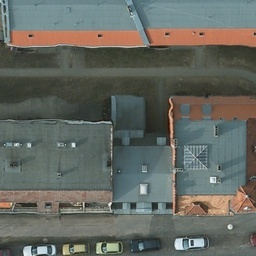car: (175, 235, 209, 253), (129, 236, 163, 253), (94, 239, 123, 254), (20, 245, 56, 255), (61, 242, 89, 254)
